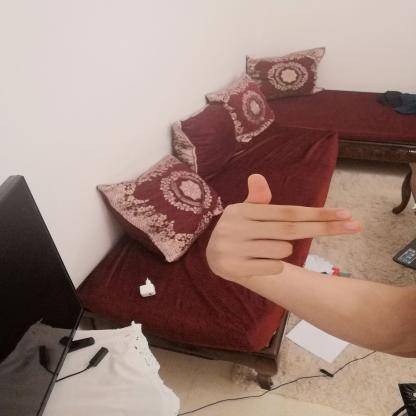GHAYN: (192, 167, 372, 292)
